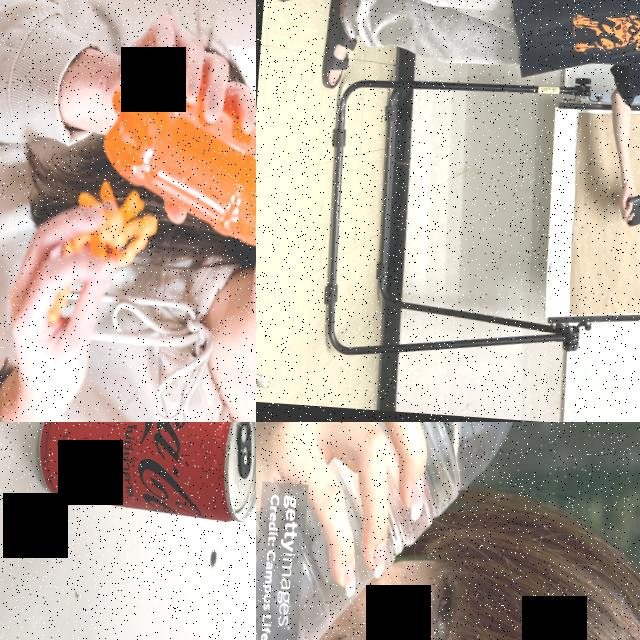bottle: (256, 422, 564, 640), (87, 40, 256, 257)
can: (31, 422, 256, 525)
